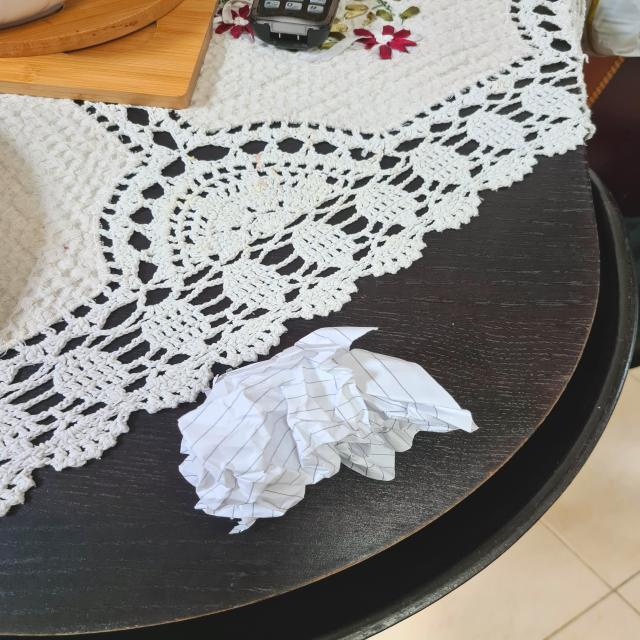Paper: (156, 320, 492, 536)
